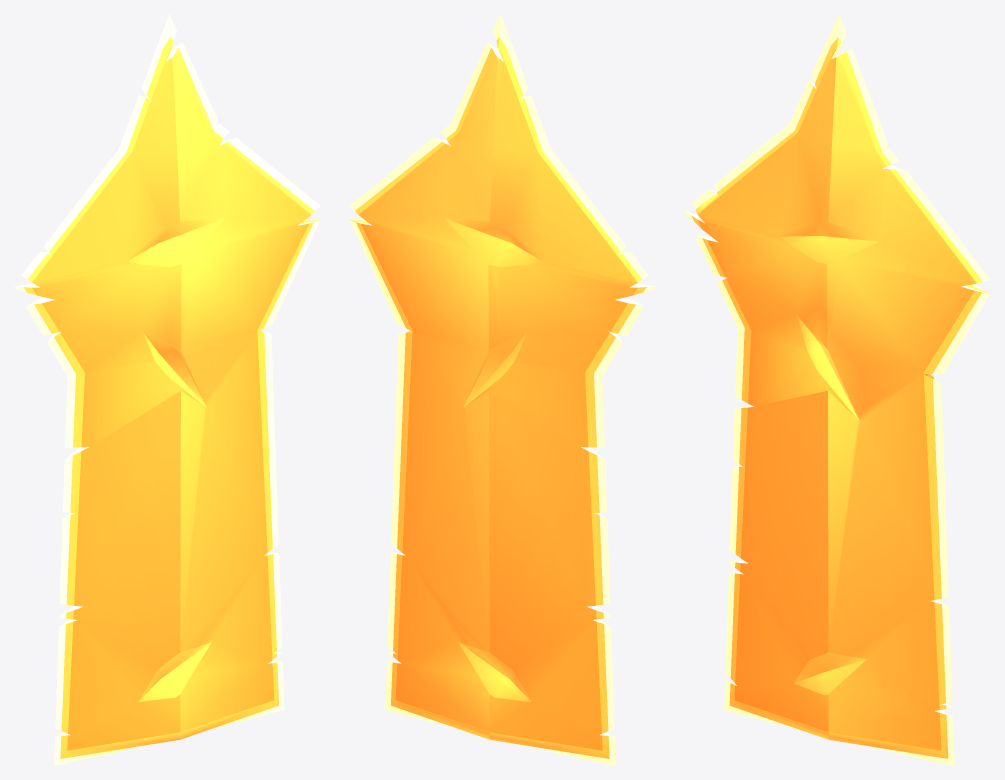
Rendered from gold_blade_scratched_048.glb.
3 renders of one model, left to right at view 1: azimuth 30°, elevation 25°; view 2: azimuth 150°, elevation 25°; view 3: azimuth 330°, elevation 25°, orthographic.
Visible parts, largest first — view 1: gold_blade_scratched.048; view 2: gold_blade_scratched.048; view 3: gold_blade_scratched.048.
Boxes of the visible parts, left/top/right/bottom form: gold_blade_scratched.048: left=14, top=14, right=320, bottom=765; gold_blade_scratched.048: left=349, top=14, right=655, bottom=765; gold_blade_scratched.048: left=684, top=14, right=990, bottom=765.
Bounding box in the file's own units: 5.19 × 11.76 × 0.723.
Materials: 1 (1 with a texture image).
